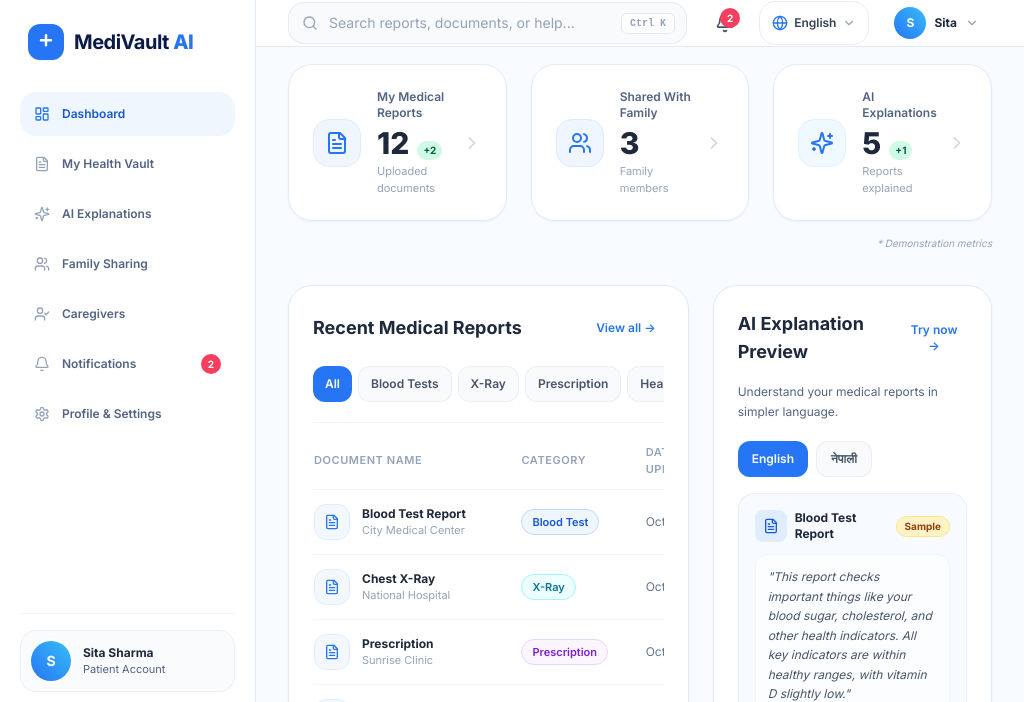
MediVault AI — Phase 2B Patient Dashboard Frontend Suite › 4. filters reports when category filter button is clicked
(page scrolled)
// Click "Blood Tests" filter button
Click the button "Blood Tests" at coordinates (405, 384), box [358, 366, 452, 402]
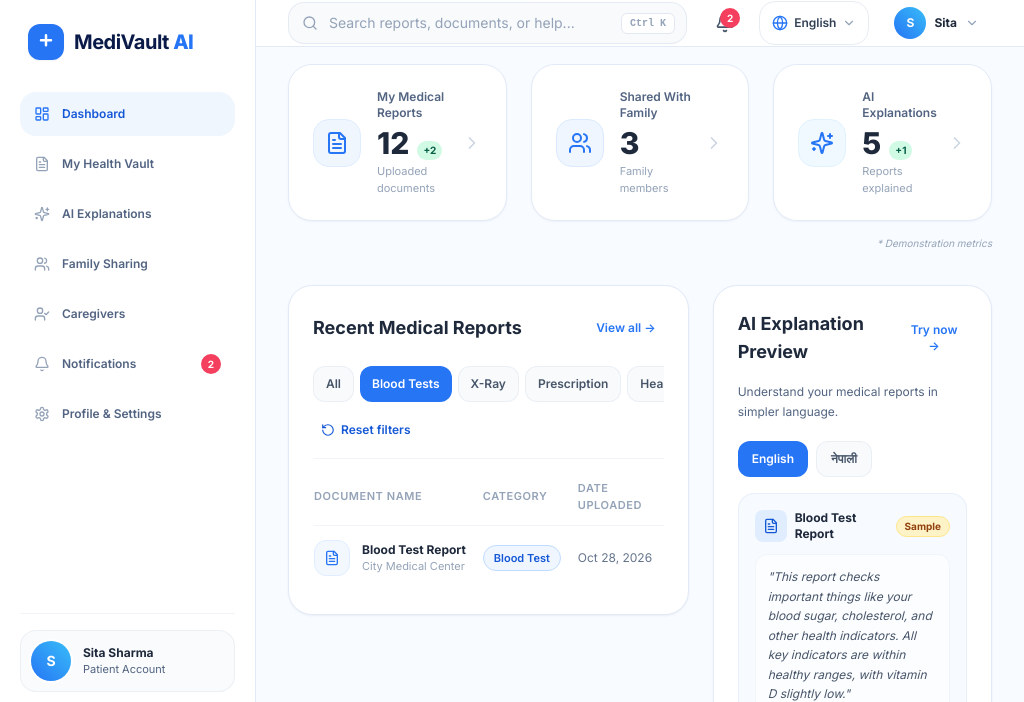
Expected: the text "Blood Test Report" in the row of "Oct 28, 2026" is shown, [362, 542, 466, 557]
Expected: the text "Chest X-Ray" is gone
